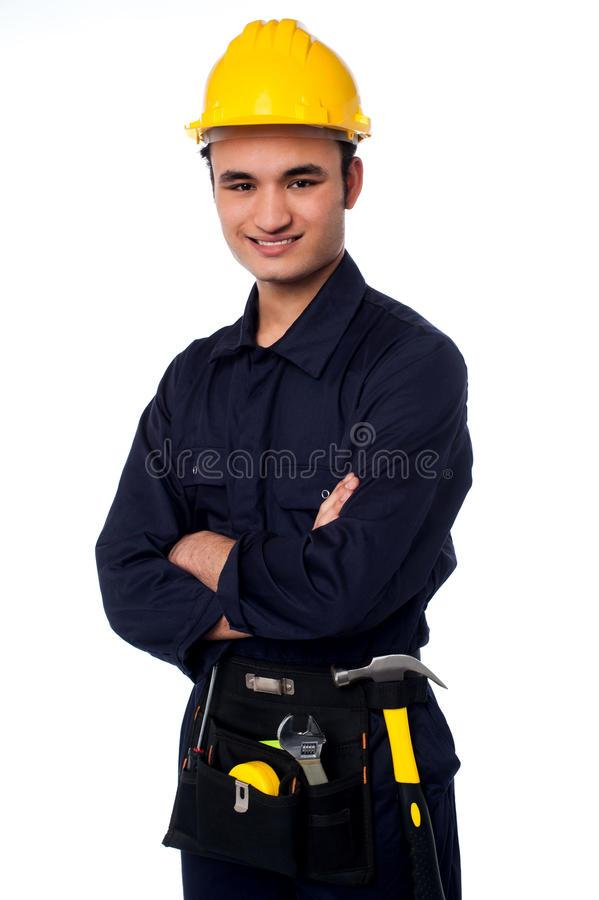helmet: (188, 19, 374, 156)
